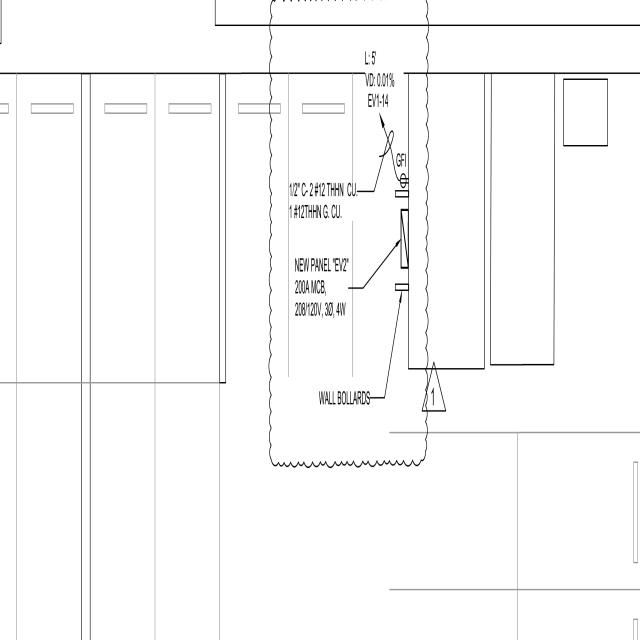gfi: (398, 170, 411, 188)
panel: (399, 205, 413, 275)
